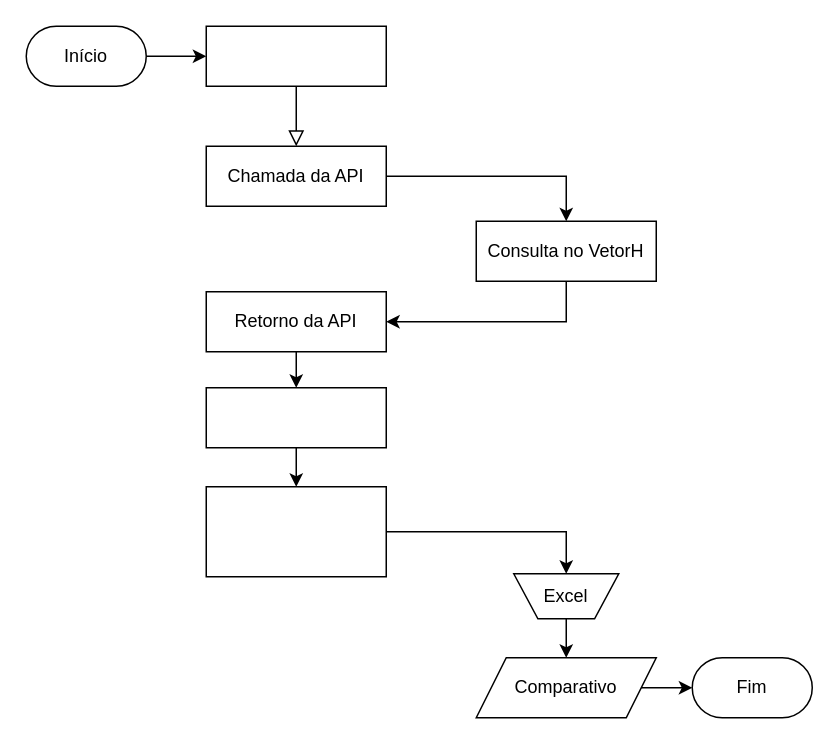
Some shapes in this 839 by 744 pixel diagram are drawn without their labels. Here are the shapes that lost their labels. From the top down, the centre of each, then its label:
At point (295, 55): "Início da consulta".
At point (295, 417): "Término da consulta".
At point (295, 531): "Coleta de tempo de processamento do SoapUI".
